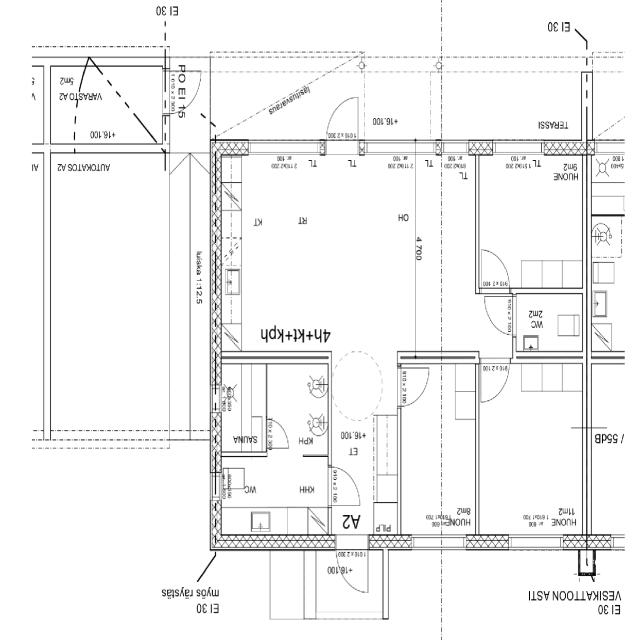door: (325, 92, 360, 140), (329, 462, 361, 510), (479, 245, 511, 292), (398, 362, 430, 407), (478, 358, 509, 403), (482, 292, 512, 335), (265, 414, 292, 450), (181, 68, 201, 112), (166, 146, 188, 174)
window: (247, 136, 323, 156), (488, 138, 546, 160), (410, 532, 467, 552), (362, 137, 418, 156), (506, 534, 563, 552), (208, 468, 220, 501)
zone: (220, 159, 406, 356), (477, 362, 585, 539), (478, 150, 586, 288), (399, 353, 478, 536), (215, 452, 330, 538), (265, 359, 331, 454), (99, 62, 164, 144), (216, 362, 267, 456), (513, 290, 584, 356), (269, 550, 306, 620), (329, 463, 362, 512), (177, 68, 202, 115), (165, 67, 186, 116)
